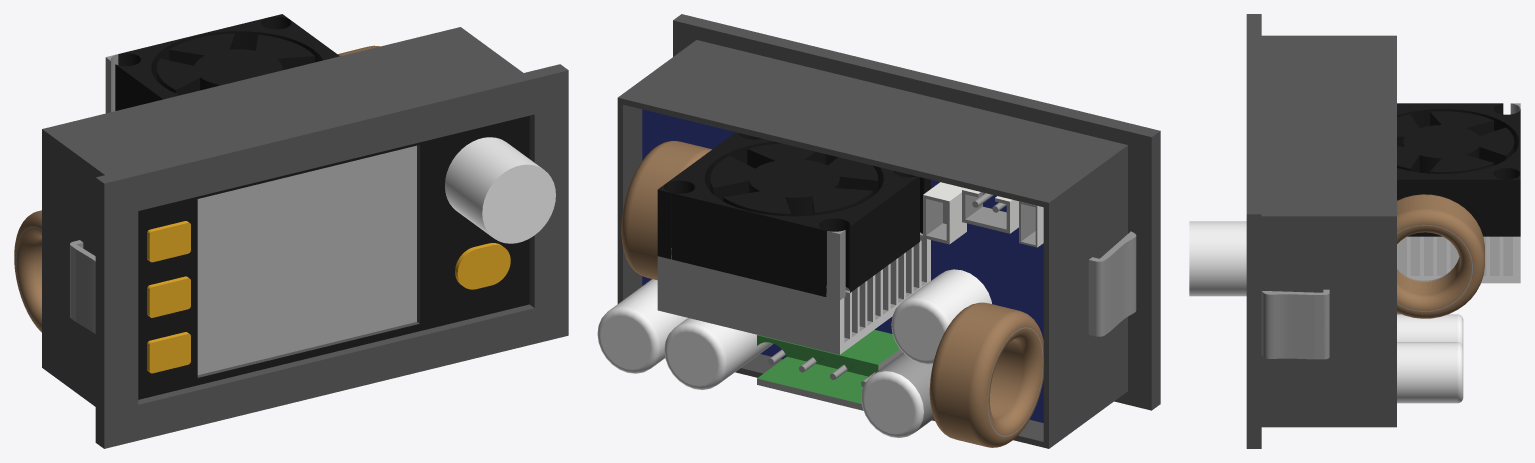
The picture shows the model from 3 angles, left to right: view 1: azimuth 30°, elevation 25°; view 2: azimuth 150°, elevation 25°; view 3: azimuth 270°, elevation 25°; orthographic projection. The views are drawn at different scales.
Visible parts, largest first — view 1: Body1, Body7, Body6, Body13, Body11, Body15, Body8, Body5, Body4, Body3, Body2, Body12; view 2: Body7, Body10, Body11, Body1, Body15, Body13, Body14, Body8, Body16, Body12; view 3: Body7, Body10, Body11, Body14, Body1, Body13, Body9, Body6.
Boxes of the visible parts, bbox=[...] form: Body1: bbox=[95, 64, 568, 448]; Body7: bbox=[42, 27, 522, 406]; Body6: bbox=[445, 137, 555, 243]; Body13: bbox=[156, 33, 314, 95]; Body11: bbox=[115, 14, 339, 110]; Body15: bbox=[14, 210, 41, 332]; Body8: bbox=[70, 240, 95, 333]; Body5: bbox=[455, 243, 510, 289]; Body4: bbox=[147, 221, 190, 262]; Body3: bbox=[147, 332, 190, 373]; Body2: bbox=[147, 276, 190, 317]; Body12: bbox=[105, 54, 118, 113]; Body7: bbox=[617, 40, 1127, 448]; Body10: bbox=[597, 109, 1043, 437]; Body11: bbox=[657, 132, 930, 297]; Body1: bbox=[673, 14, 1160, 410]; Body15: bbox=[929, 302, 1043, 447]; Body13: bbox=[710, 143, 878, 216]; Body14: bbox=[621, 141, 711, 280]; Body8: bbox=[1088, 231, 1136, 336]; Body16: bbox=[962, 188, 1018, 233]; Body12: bbox=[827, 230, 845, 300]; Body7: bbox=[1261, 35, 1396, 427]; Body10: bbox=[1397, 236, 1520, 403]; Body11: bbox=[1397, 103, 1520, 236]; Body14: bbox=[1397, 194, 1484, 318]; Body1: bbox=[1246, 14, 1261, 448]; Body13: bbox=[1397, 111, 1514, 173]; Body9: bbox=[1261, 289, 1329, 359]; Body6: bbox=[1189, 221, 1246, 296].
Size of the model in its own units: 7.88 by 4.3 by 5.5.
